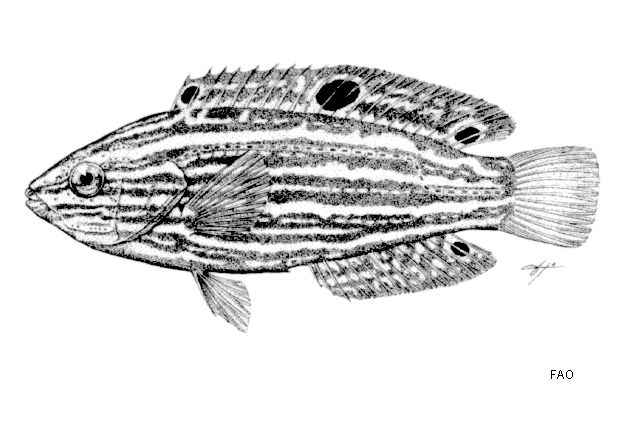fish: (24, 63, 601, 333)
